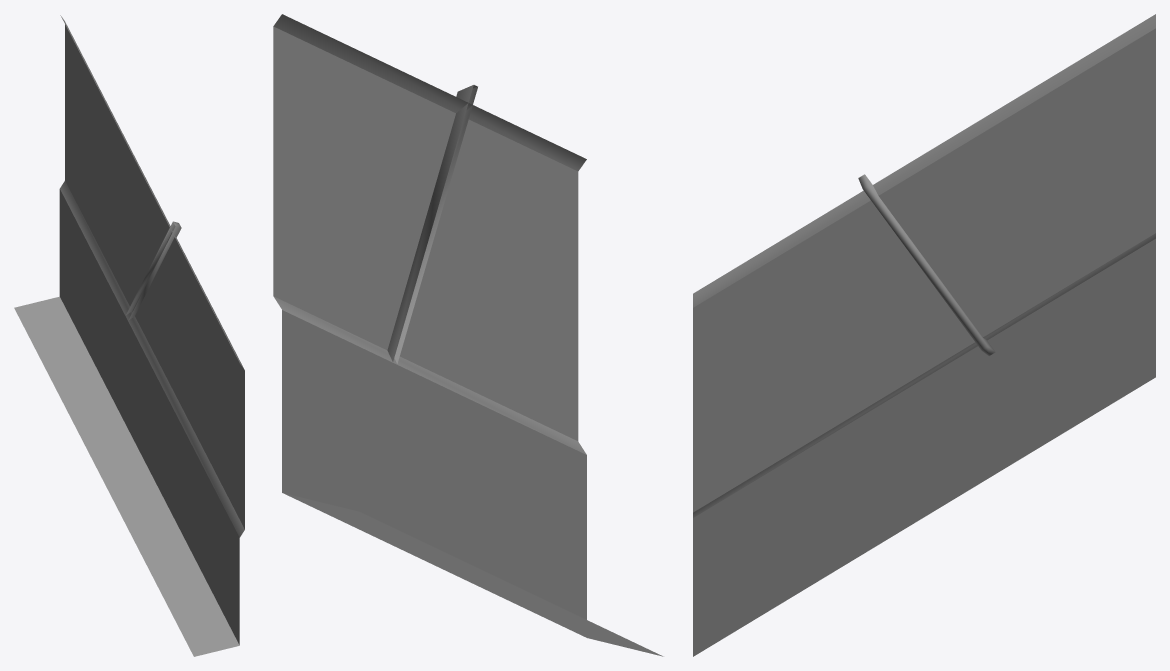
The model's file is SW_ENV_Escalator_4Step_Connector_Endcap.fbx.
The picture shows the model from 3 angles, left to right: view 1: azimuth 30°, elevation 25°; view 2: azimuth 150°, elevation 25°; view 3: azimuth 270°, elevation 25°; orthographic projection. The views are drawn at different scales.
Visible parts, largest first — view 1: SW_ENV_Escalator_4Step_Connector_Endcap; view 2: SW_ENV_Escalator_4Step_Connector_Endcap; view 3: SW_ENV_Escalator_4Step_Connector_Endcap.
Part boxes in pixels (box(x1,y1,x2,y2)): SW_ENV_Escalator_4Step_Connector_Endcap: box(14, 15, 244, 656); SW_ENV_Escalator_4Step_Connector_Endcap: box(273, 14, 663, 656); SW_ENV_Escalator_4Step_Connector_Endcap: box(693, 14, 1155, 656).
Bounding box in the file's own units: 0.2063 × 1.84 × 1.2.
